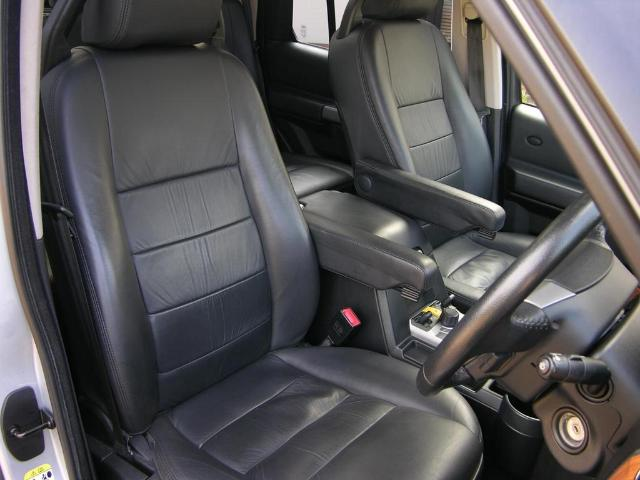Seatbelt: (45, 215, 127, 451), (464, 22, 484, 130)
